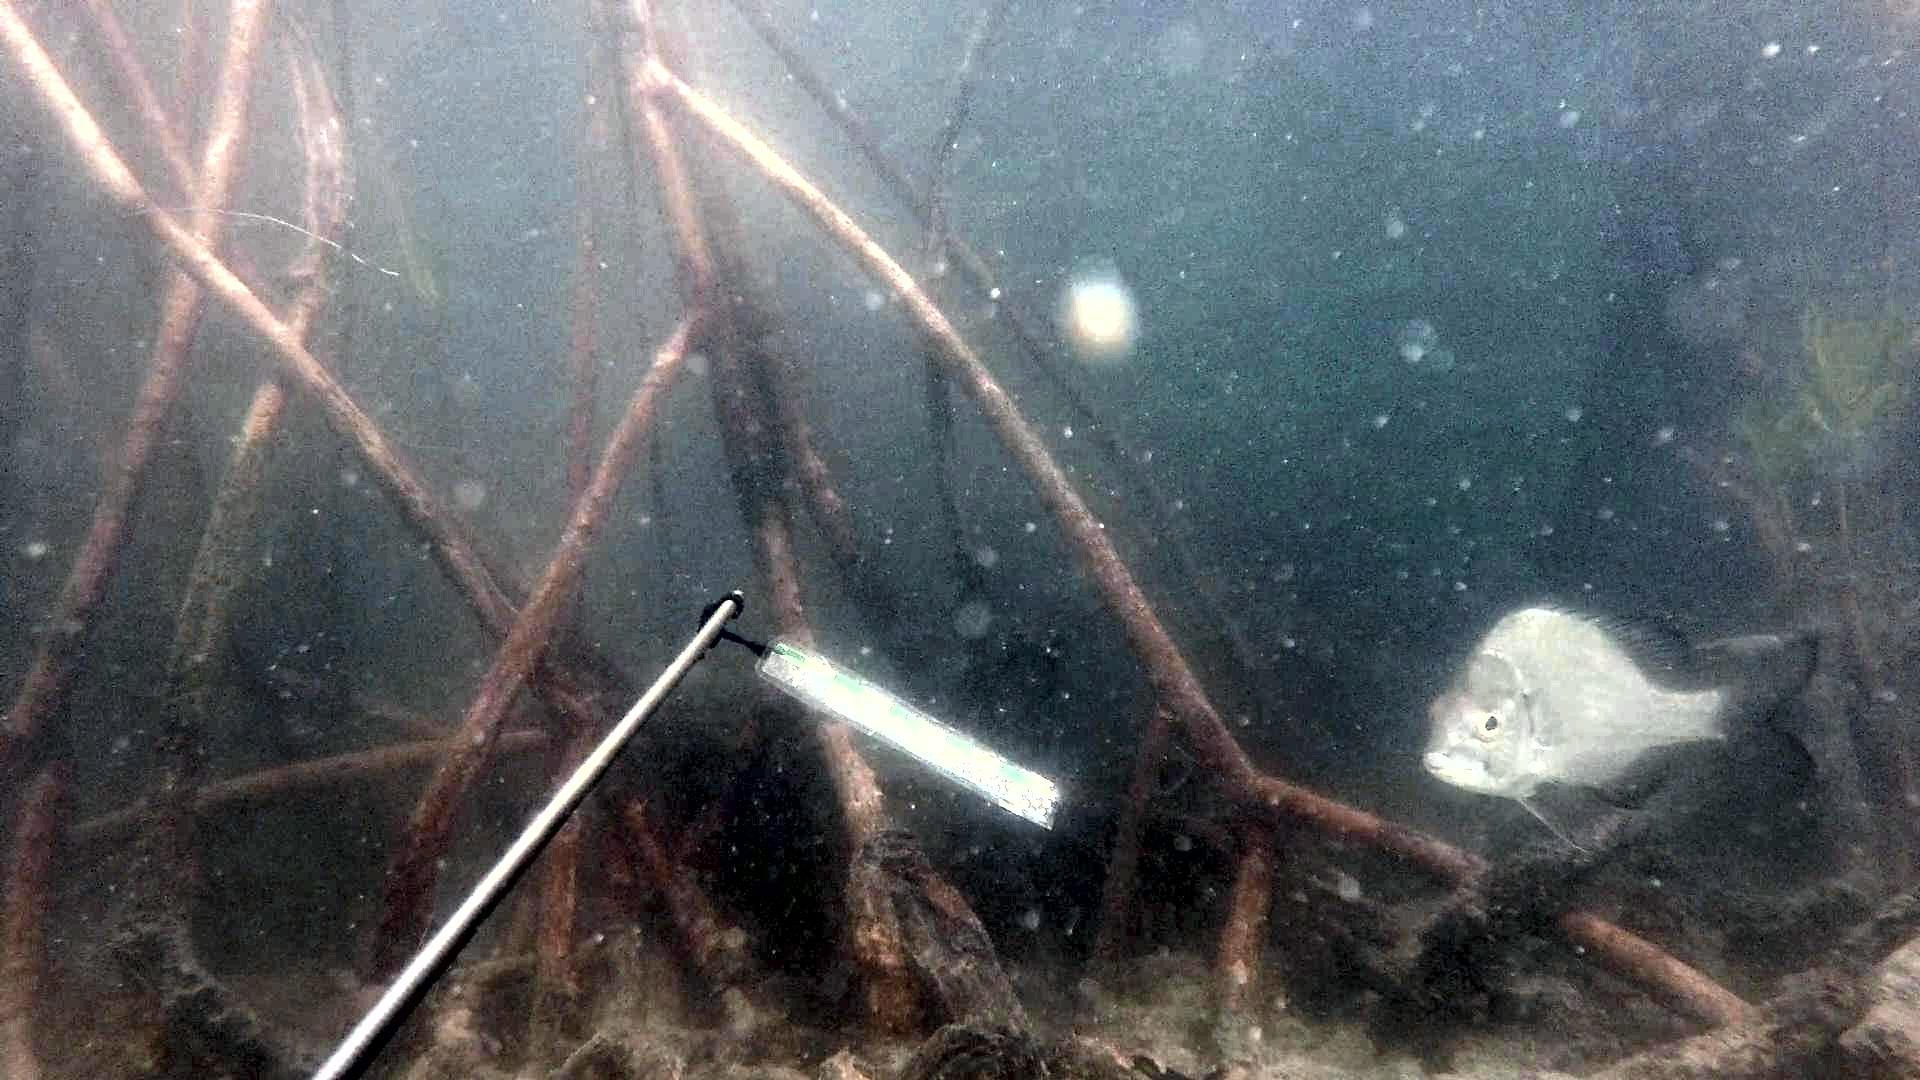acanthopagrus palmaris: (1415, 588, 1834, 858)
